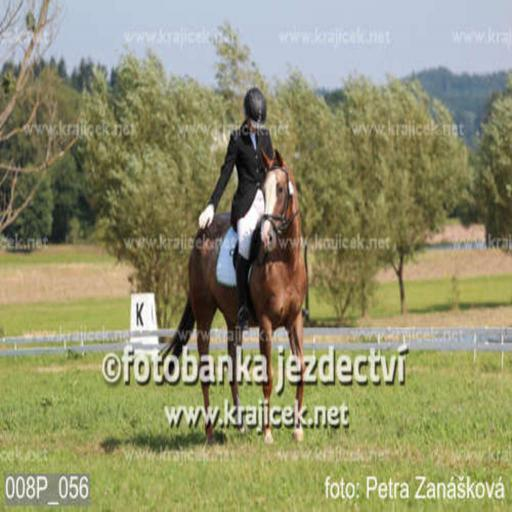horse: (156, 144, 308, 442)
